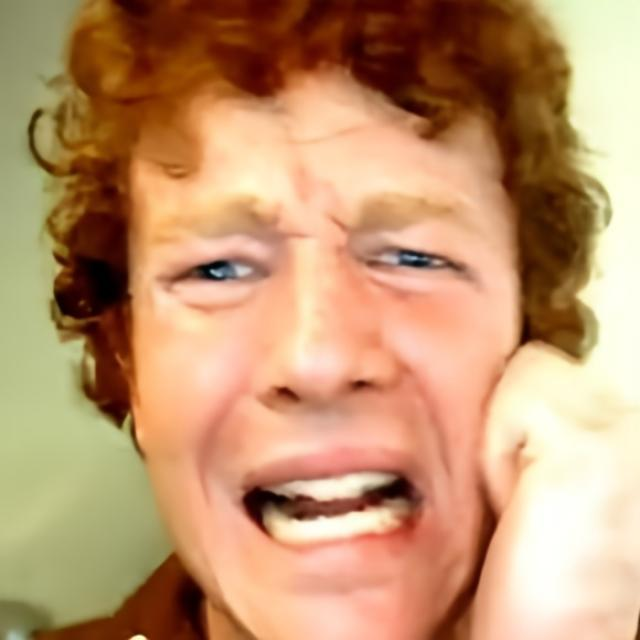fear: (130, 69, 518, 640)
